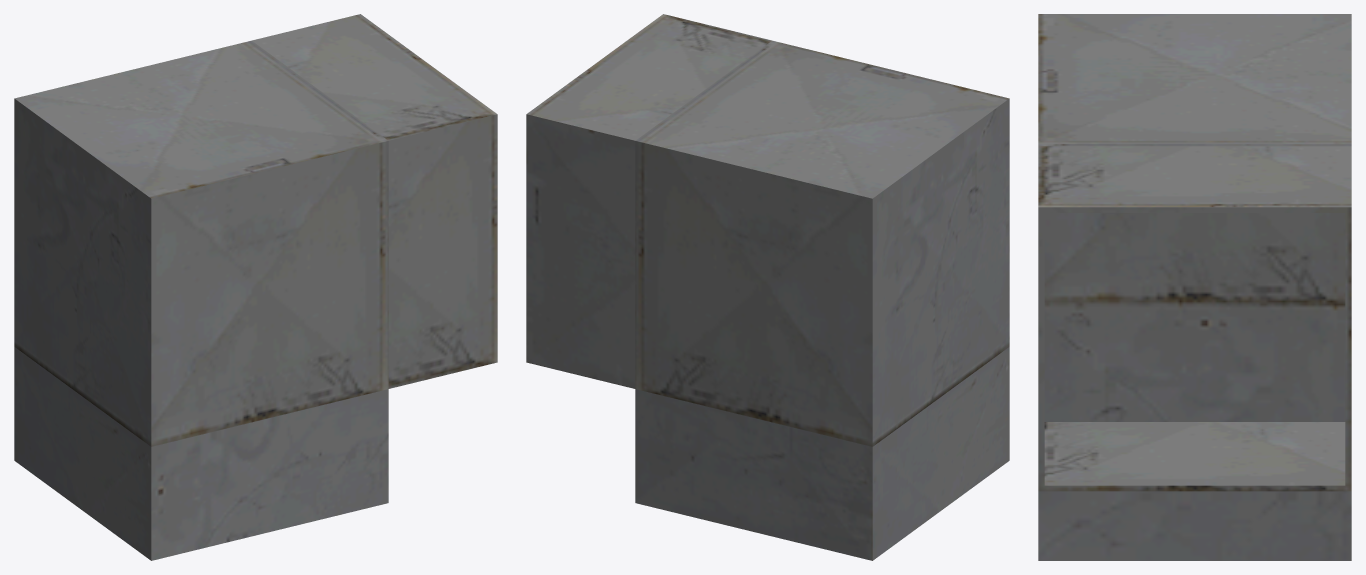
The model's file is Urban_DuctCornerSharp_Model.fbx.
3 renders of one model, left to right at view 1: azimuth 30°, elevation 25°; view 2: azimuth 150°, elevation 25°; view 3: azimuth 270°, elevation 25°, orthographic. The views are drawn at different scales.
Parts seen in each view (by area): view 1: Urban_DuctCornerSharp_Mesh; view 2: Urban_DuctCornerSharp_Mesh; view 3: Urban_DuctCornerSharp_Mesh.
Part boxes in pixels (x1,y1,x2,y2): Urban_DuctCornerSharp_Mesh: [14, 14, 497, 560]; Urban_DuctCornerSharp_Mesh: [526, 14, 1009, 560]; Urban_DuctCornerSharp_Mesh: [1038, 14, 1351, 560].
Bounding box in the file's own units: 1.52 × 1.52 × 1.04.
